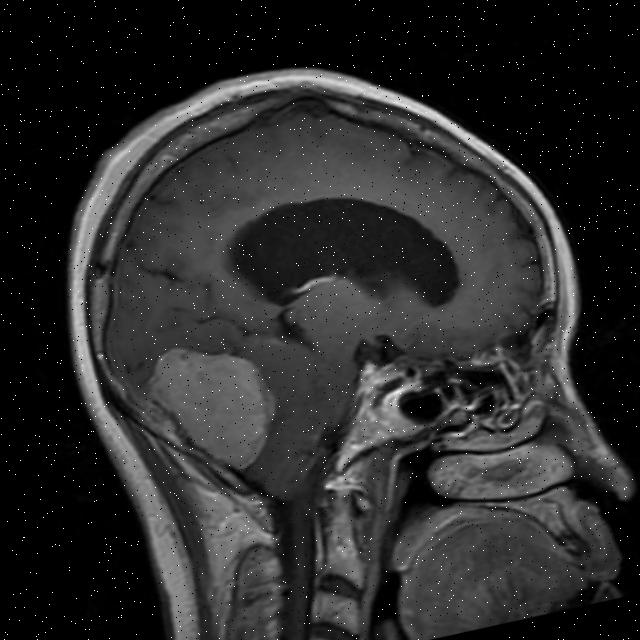Meningioma: (129, 322, 295, 493)
